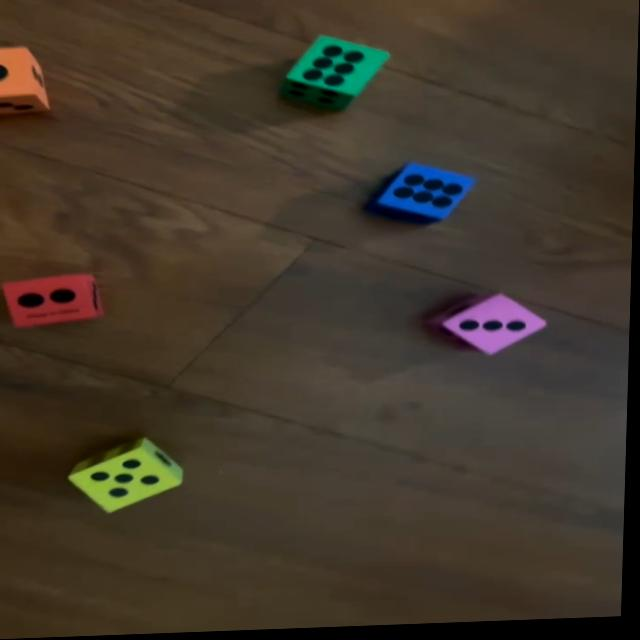cube: (278, 34, 394, 115), (369, 161, 478, 230), (0, 273, 106, 329)
